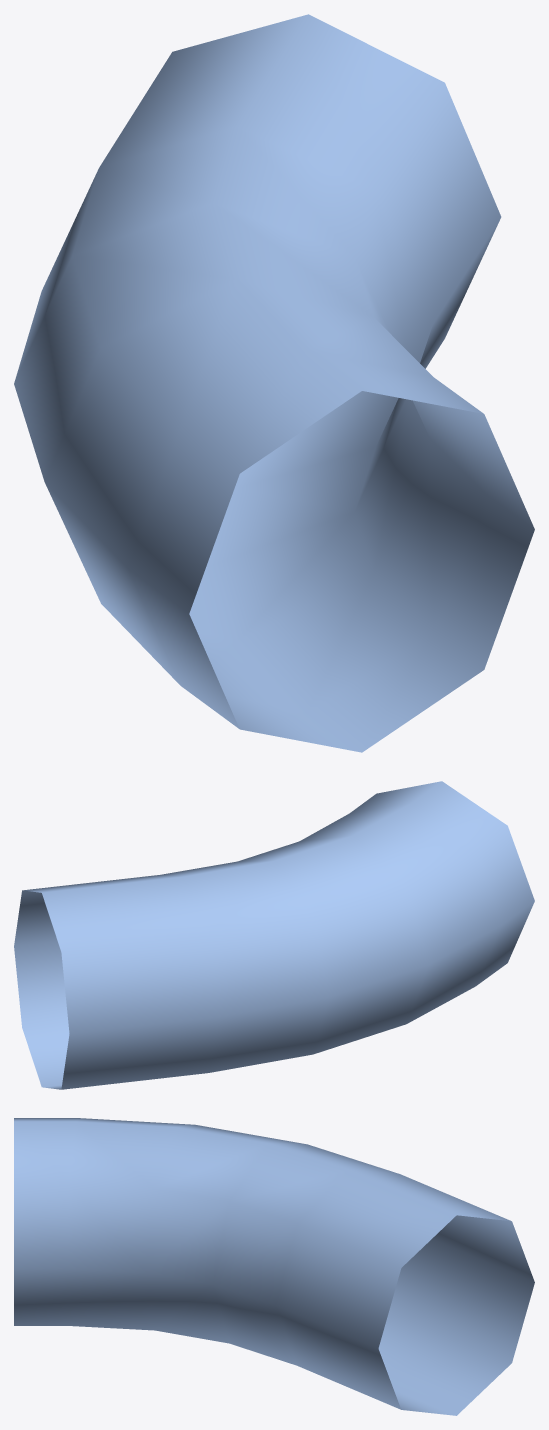
Rendered from PipeSmall_BentDeg45_02.fbx.
The picture shows the model from 3 angles, top to bottom: view 1: azimuth 30°, elevation 25°; view 2: azimuth 150°, elevation 25°; view 3: azimuth 270°, elevation 25°; orthographic projection. The views are drawn at different scales.
Parts seen in each view (by area): view 1: PipeSmall_BentDeg45_02.001; view 2: PipeSmall_BentDeg45_02.001; view 3: PipeSmall_BentDeg45_02.001.
Part boxes in pixels (x1,y1,x2,y2): PipeSmall_BentDeg45_02.001: (14, 14, 534, 752); PipeSmall_BentDeg45_02.001: (14, 781, 534, 1089); PipeSmall_BentDeg45_02.001: (14, 1118, 534, 1415).
Bounding box in the file's own units: 0.1854 × 0.1 × 0.2354.
